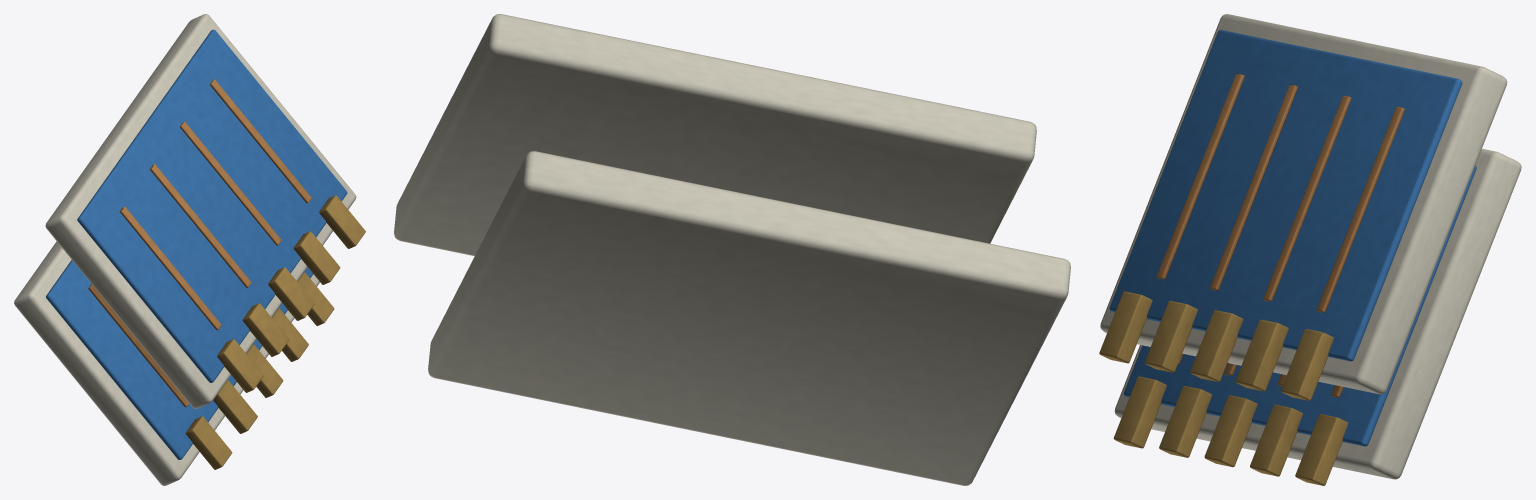
3 renders of one model, left to right at view 1: azimuth 30°, elevation 25°; view 2: azimuth 150°, elevation 25°; view 3: azimuth 270°, elevation 25°, orthographic. The views are drawn at different scales.
Parts seen in each view (by area): view 1: Duplex insulating substrate; view 2: Duplex insulating substrate; view 3: Duplex insulating substrate.
Part boxes in pixels (<box>): Duplex insulating substrate: <box>14,14,365,485</box>; Duplex insulating substrate: <box>394,14,1070,485</box>; Duplex insulating substrate: <box>1099,14,1521,485</box>.
Bounding box in the file's own units: 1.22 × 1.06 × 0.8599.
1 material, 1 textured.
